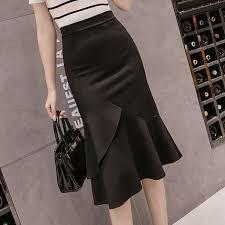skirt: (43, 5, 183, 209)
